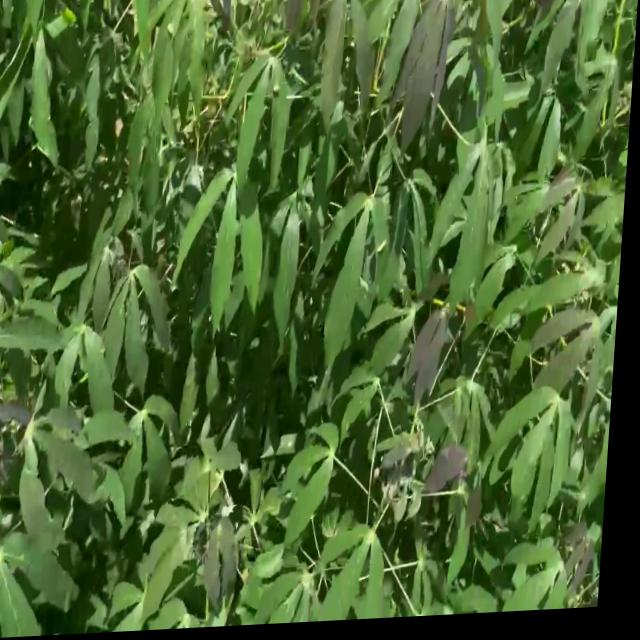Mosca: (102, 426, 138, 456), (160, 7, 189, 39), (370, 234, 393, 263), (265, 79, 285, 103)
